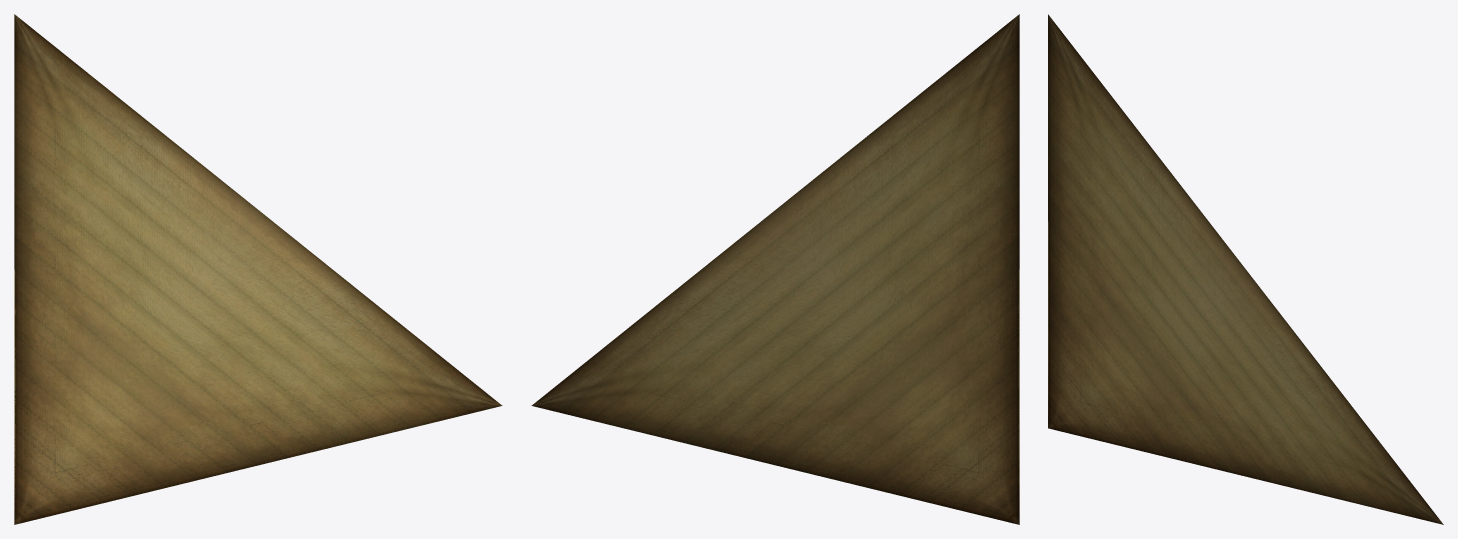
Rendered from sails_triangle.obj.
The picture shows the model from 3 angles, left to right: view 1: azimuth 30°, elevation 25°; view 2: azimuth 150°, elevation 25°; view 3: azimuth 330°, elevation 25°; orthographic projection. The views are drawn at different scales.
Visible parts, largest first — view 1: g0; view 2: g0; view 3: g0.
Part boxes in pixels (x1,y1,x2,y2): g0: (14, 14, 502, 524); g0: (531, 14, 1019, 524); g0: (1048, 14, 1443, 524).
Size of the model in its own units: 1 by 1 by 8.94e-08.
